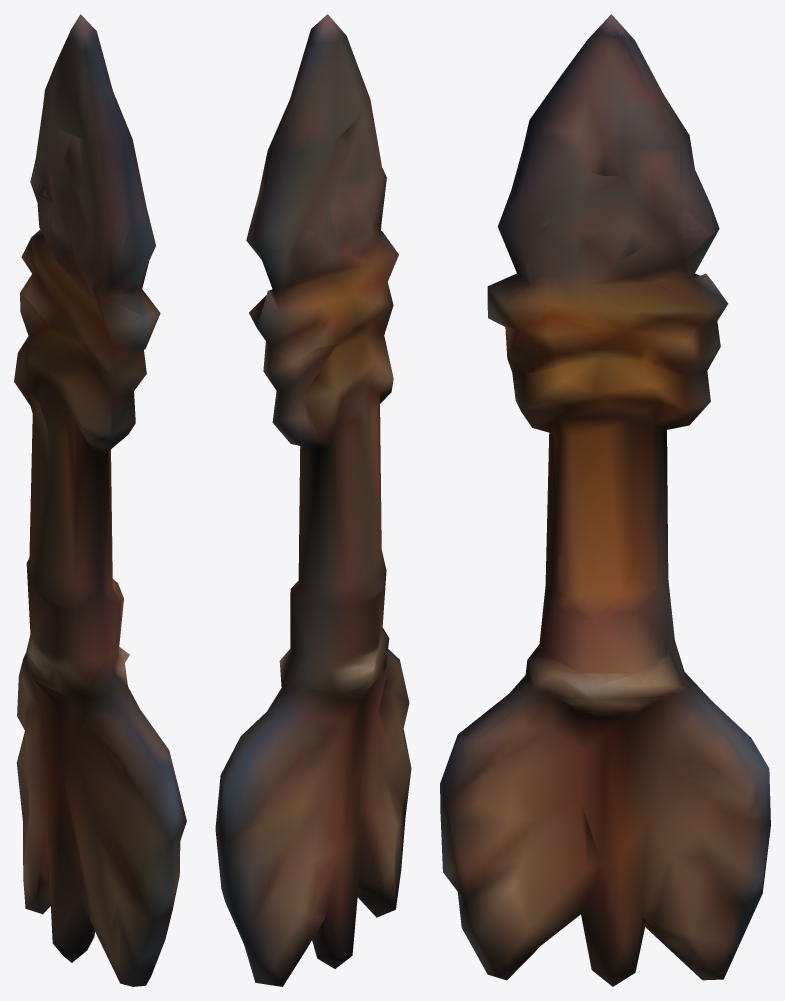
Rendered from bolt_stone.glb.
3 renders of one model, left to right at view 1: azimuth 30°, elevation 25°; view 2: azimuth 150°, elevation 25°; view 3: azimuth 270°, elevation 25°, orthographic. The views are drawn at different scales.
Parts seen in each view (by area): view 1: model; view 2: model; view 3: model.
Boxes of the visible parts, box(x1,y1,x2,y2) form: model: box(14, 14, 186, 986); model: box(215, 14, 411, 986); model: box(440, 14, 770, 986).
Bounding box in the file's own units: 0.04 × 0.4017 × 0.1233.
1 material, 1 textured.
